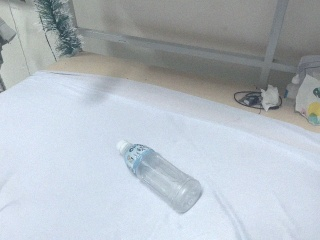bottle: (116, 140, 204, 214)
